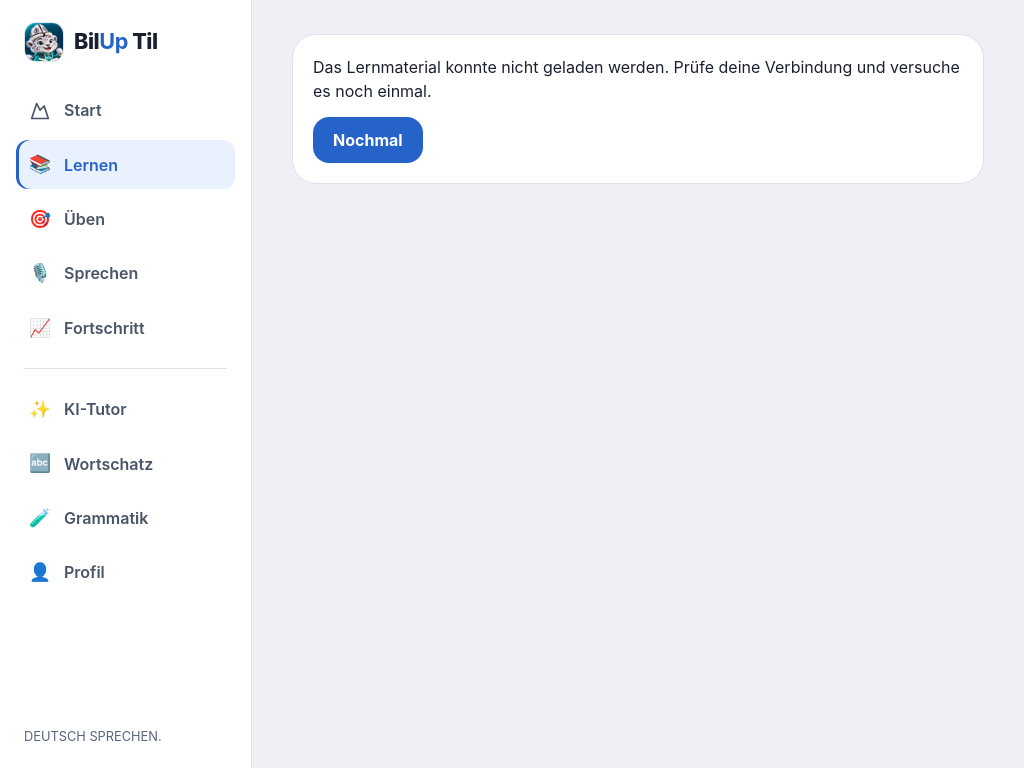
Test: a failed retry stays on the failure state and adds the localised reload hint
This screenshot has width=1024, height=768.
Click the button "Nochmal". click: point(368, 140)
box: [313,117,423,163]
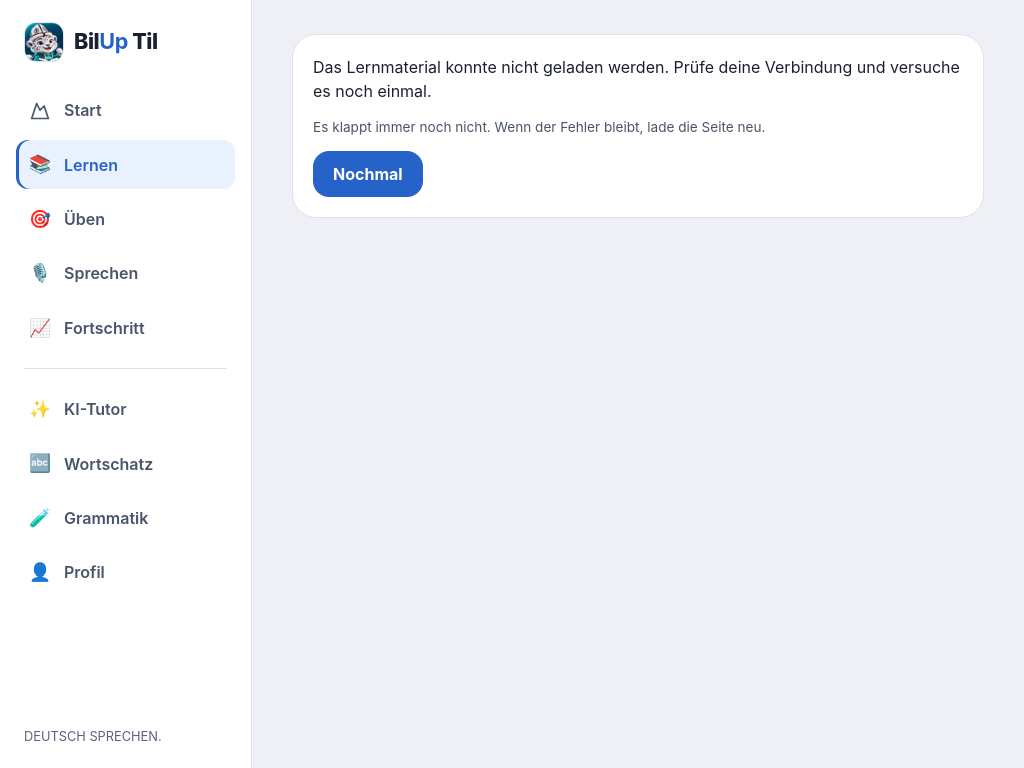
Expected: the message shows "Das Lernmaterial konnte nicht geladen werden. Prüfe deine Verbindung und versuche es noch einmal.", [313,57,960,101]
Expected: the text "Es klappt immer noch nicht. Wenn der Fehler bleibt, lade die Seite neu." is shown, [313,117,766,137]
